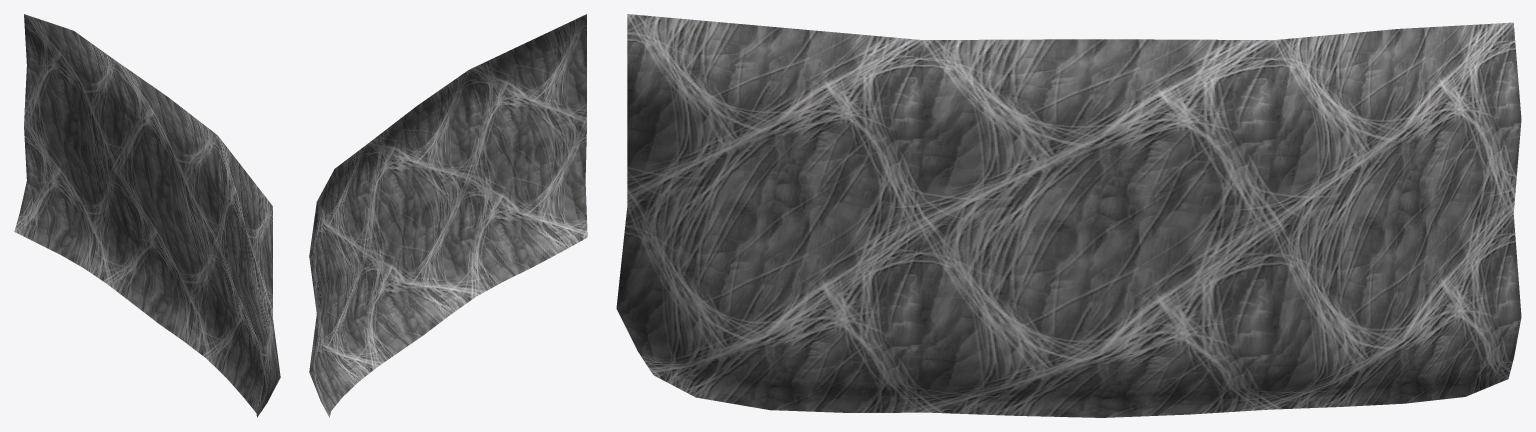
File: SWORDLIGHT20_PS-AREA01_32.fbx
The picture shows the model from 3 angles, left to right: view 1: azimuth 30°, elevation 25°; view 2: azimuth 150°, elevation 25°; view 3: azimuth 270°, elevation 25°; orthographic projection. The views are drawn at different scales.
Visible parts, largest first — view 1: SWORDLIGHT20_PS-AREA01_32; view 2: SWORDLIGHT20_PS-AREA01_32; view 3: SWORDLIGHT20_PS-AREA01_32.
Boxes of the visible parts, left/top/right/bottom form: SWORDLIGHT20_PS-AREA01_32: left=14, top=14, right=280, bottom=417; SWORDLIGHT20_PS-AREA01_32: left=309, top=14, right=587, bottom=417; SWORDLIGHT20_PS-AREA01_32: left=616, top=14, right=1521, bottom=417.
Bounding box in the file's own units: 20752 × 87832 × 183577.
1 material, 1 textured.
